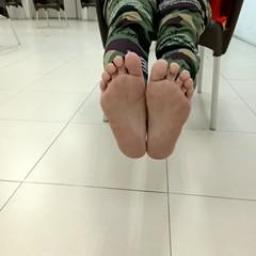Plantar View -Both Feet-: (76, 43, 212, 165)
